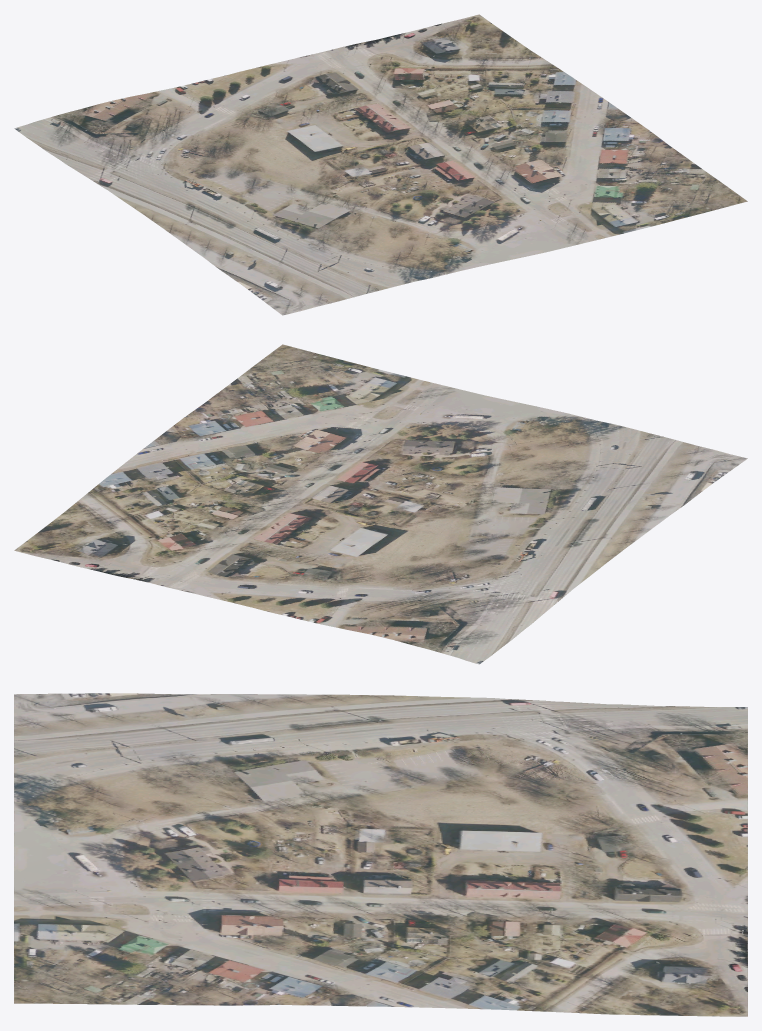
The model's file is CM_Terrain_24488206_6819794.fbx.
3 views of the same model, one above another, from view 1: azimuth 30°, elevation 25°; view 2: azimuth 150°, elevation 25°; view 3: azimuth 270°, elevation 25° (orthographic). The views are drawn at different scales.
Parts seen in each view (by area): view 1: CM_Terrain_24488206_6819794_LOD0; view 2: CM_Terrain_24488206_6819794_LOD0; view 3: CM_Terrain_24488206_6819794_LOD0.
Part boxes in pixels (x1,y1,x2,y2): CM_Terrain_24488206_6819794_LOD0: [14, 14, 747, 315]; CM_Terrain_24488206_6819794_LOD0: [14, 344, 747, 664]; CM_Terrain_24488206_6819794_LOD0: [14, 693, 747, 1016].
Size of what is drawn, in the model's own units: 205 by 4.69 by 205.
